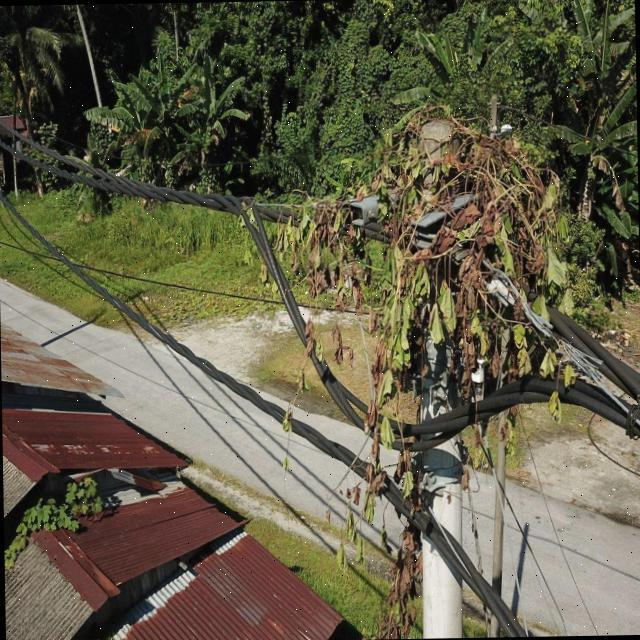critical vegetation: (258, 86, 563, 624)
